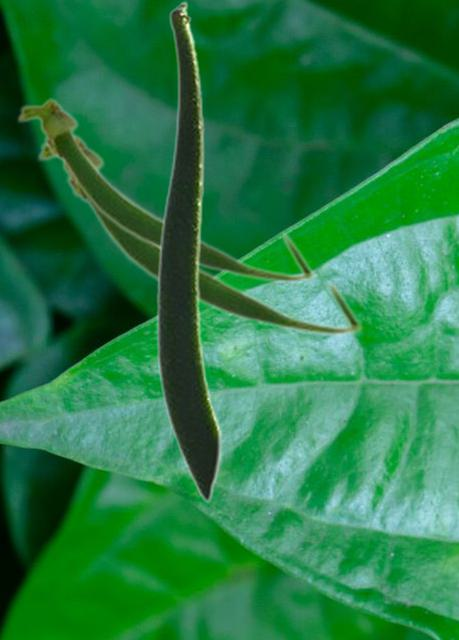french_bean: (35, 132, 363, 337), (15, 95, 315, 284), (155, 0, 222, 503)
